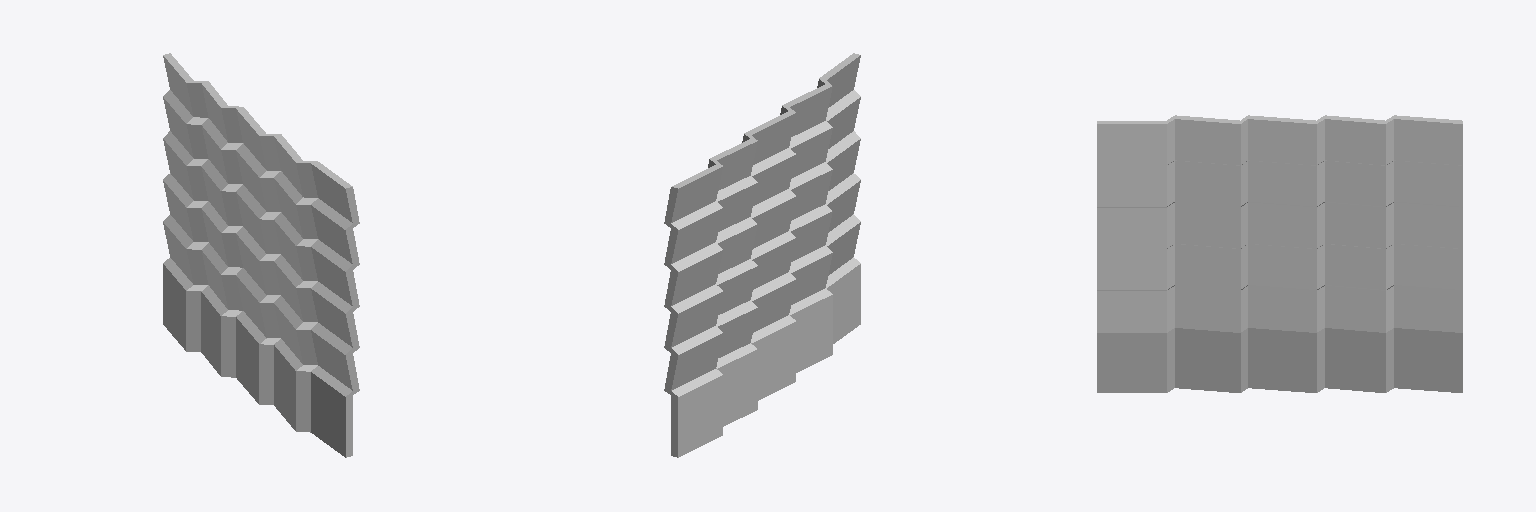
The model's file is roof tile.obj.
The picture shows the model from 3 angles: view 1: azimuth 30°, elevation 25°; view 2: azimuth 150°, elevation 25°; view 3: azimuth 270°, elevation 25°; orthographic projection.
Visible parts, largest first — view 1: Cube.001; view 2: Cube.001; view 3: Cube.001.
Part boxes in pixels (x1,y1,x2,y2): Cube.001: (163, 53, 359, 457); Cube.001: (664, 53, 860, 457); Cube.001: (1097, 115, 1462, 392).
Bounding box in the file's own units: 0.3946 × 4.06 × 5.